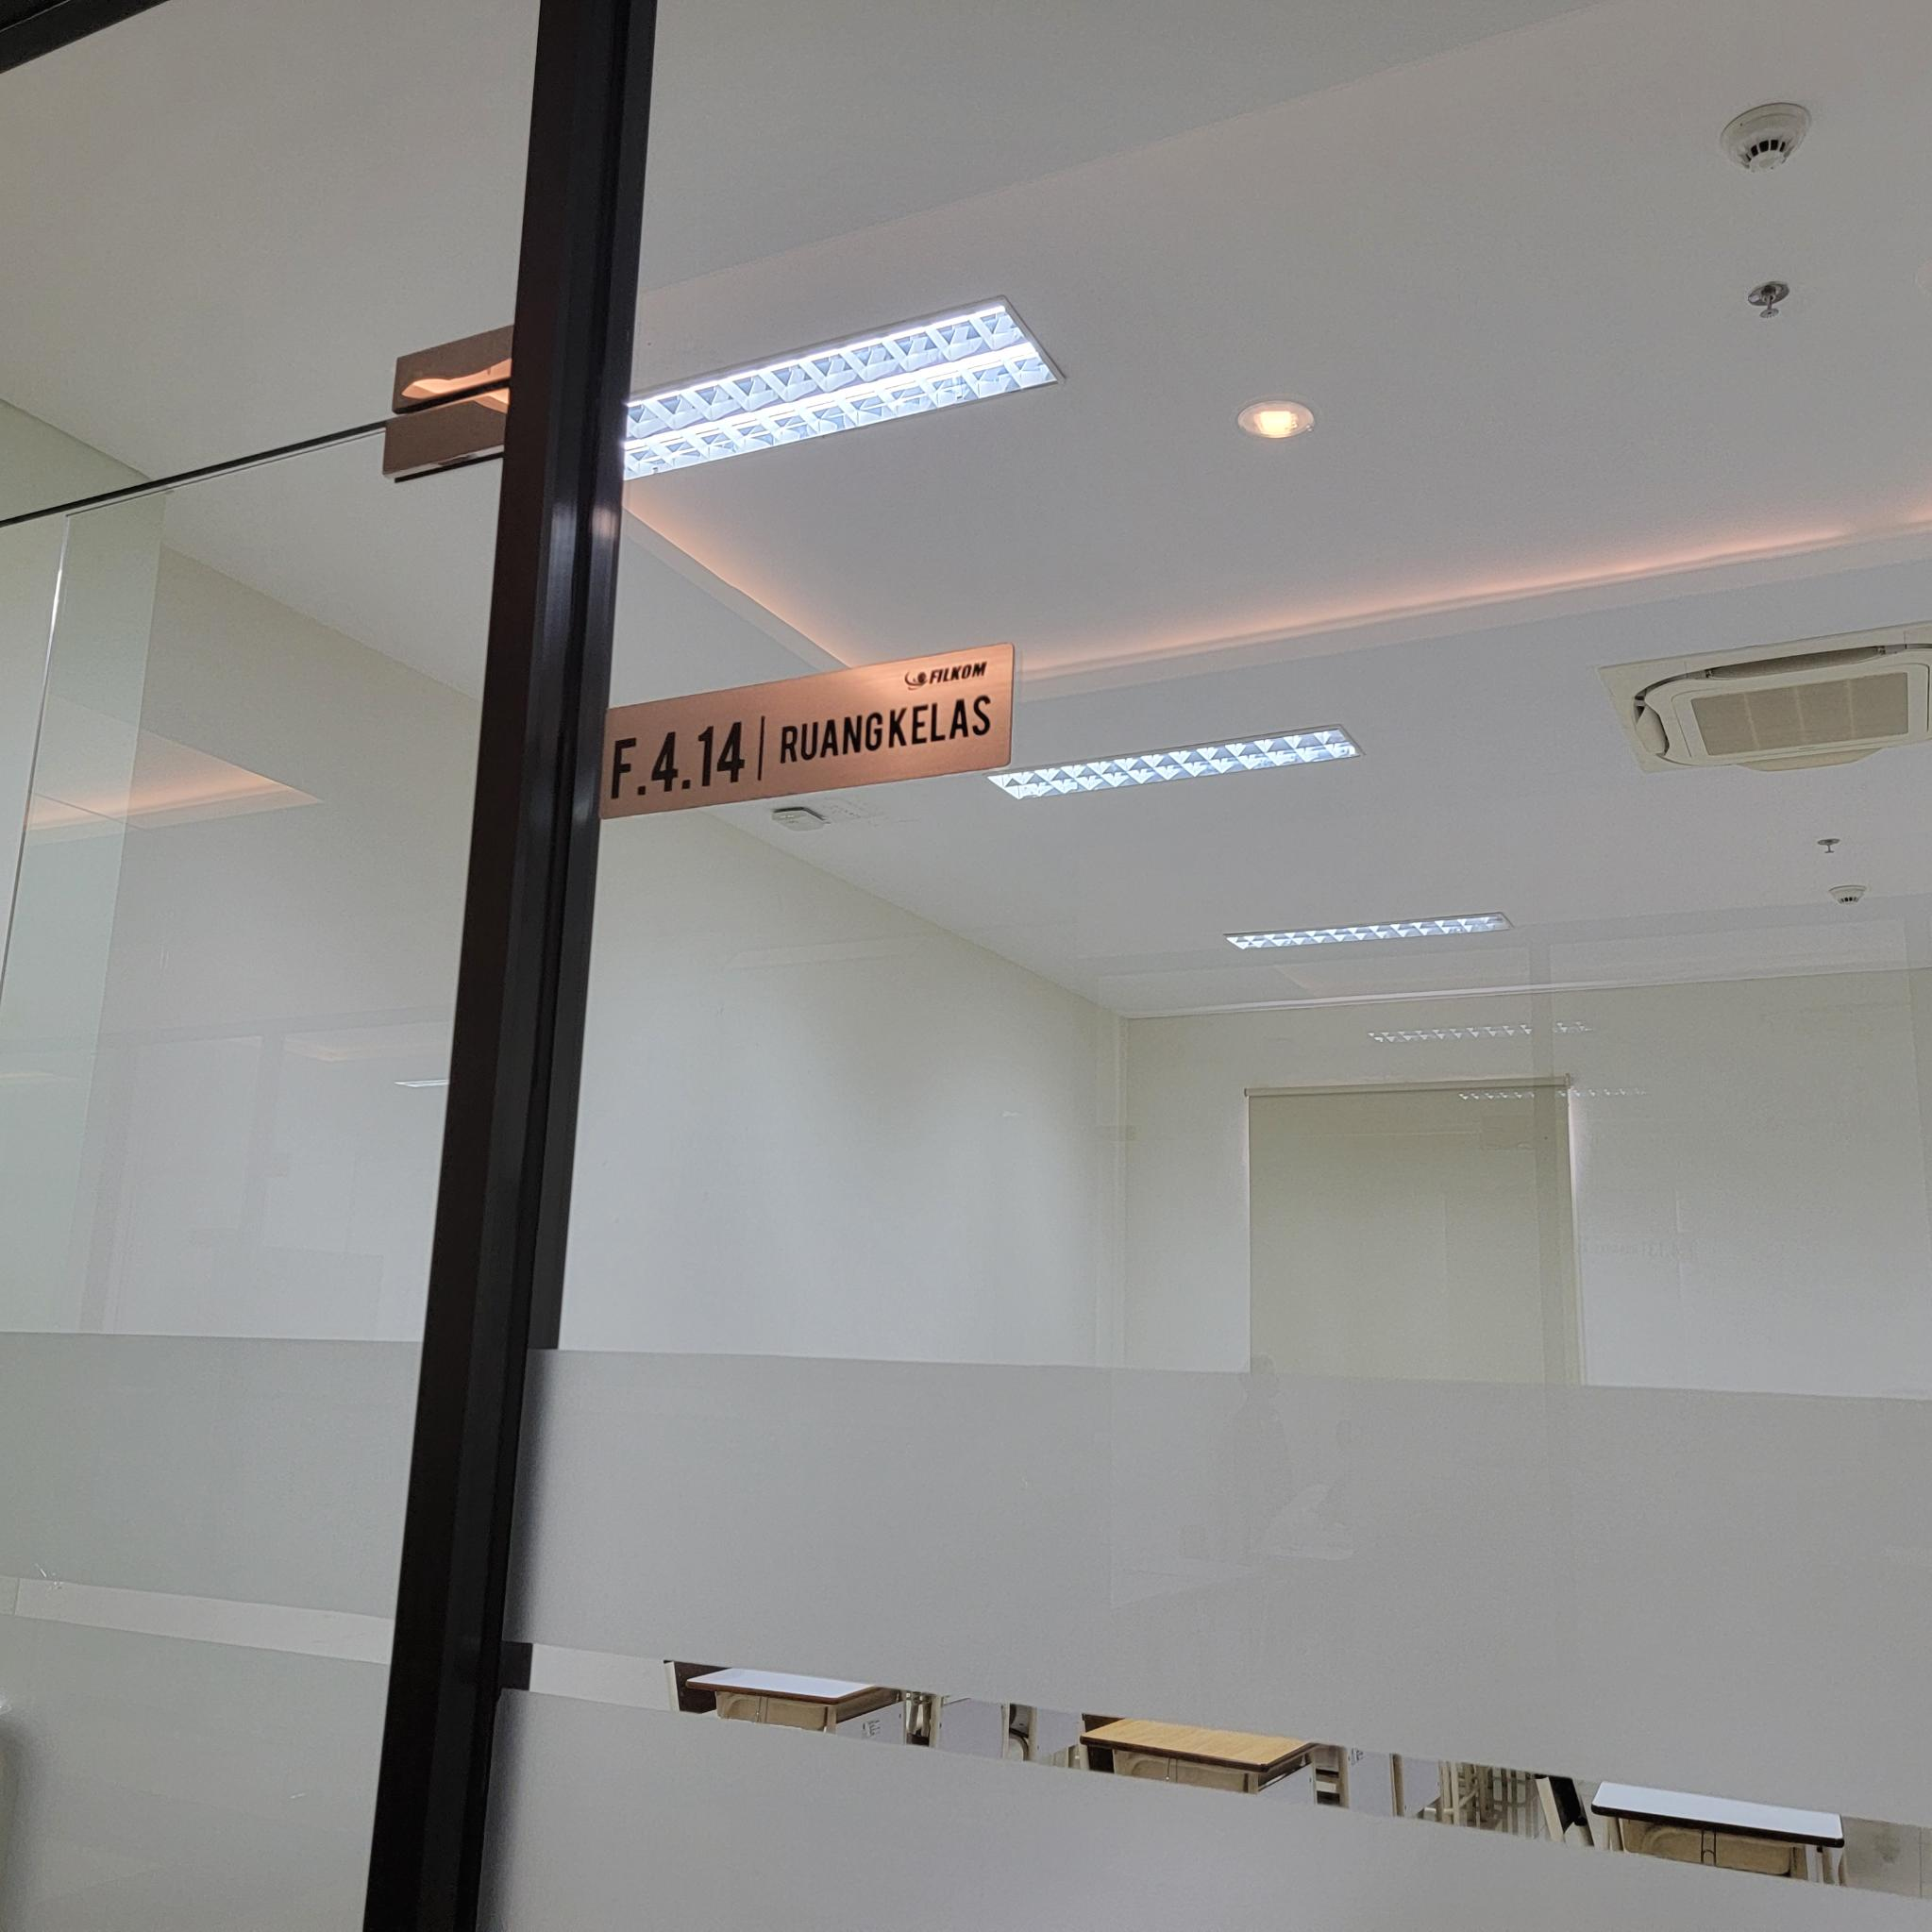plate: (593, 644, 1019, 823)
